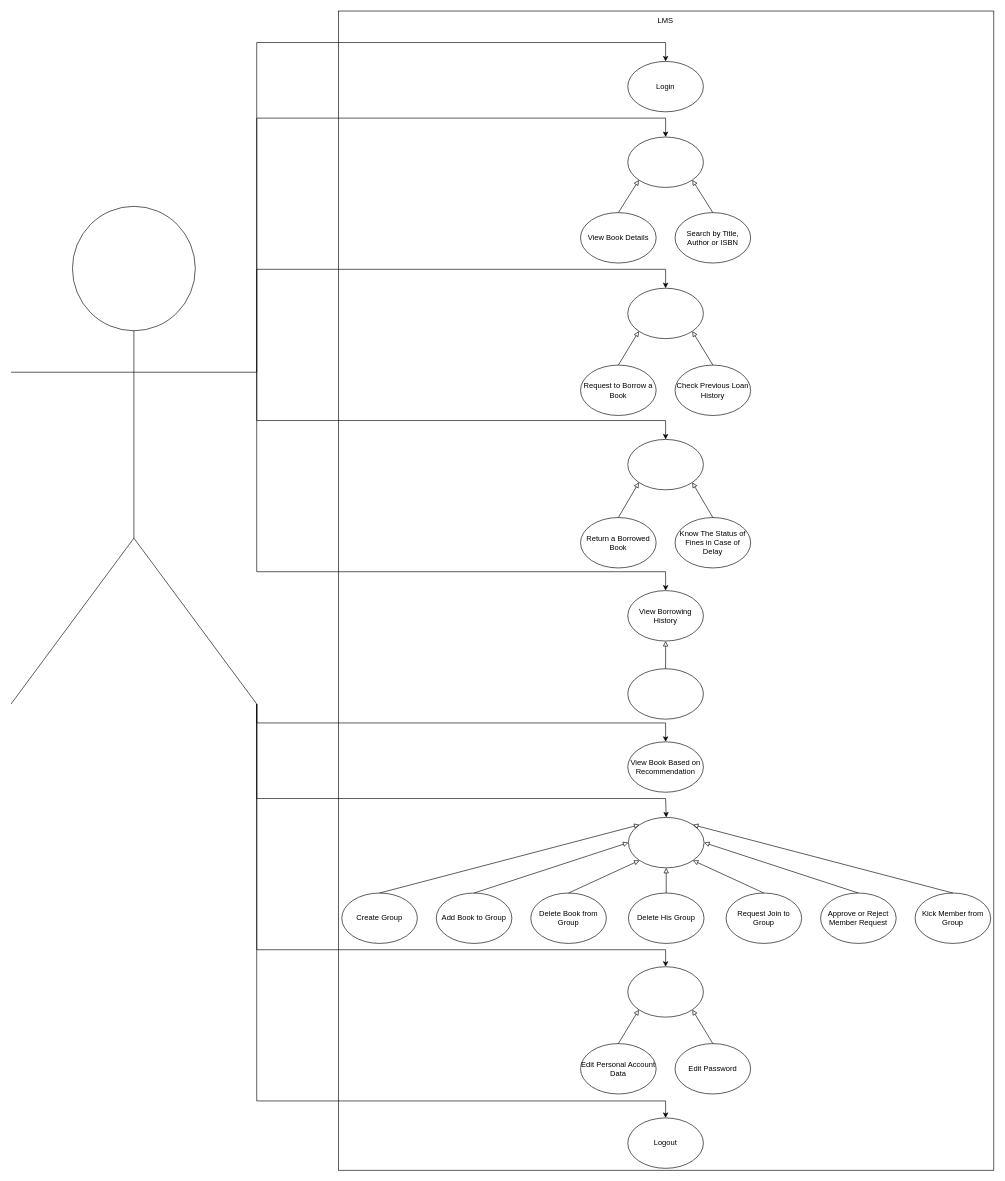
This 1005x1181 diagram has some shape labels left out. The shapes that lost their labels are listed below. From the top down, each one's box as (x1, y1, x2, y2) in pixels, then its label:
(627, 136, 703, 187): Search for Books
(627, 288, 703, 339): Borrow Books
(10, 206, 257, 704): Reader
(627, 439, 703, 490): Return a Book
(627, 668, 703, 719): List of all Borrowed Books with Return Dates
(628, 817, 704, 868): Manage Group (Forum)
(627, 966, 703, 1017): Manage Personal Account
